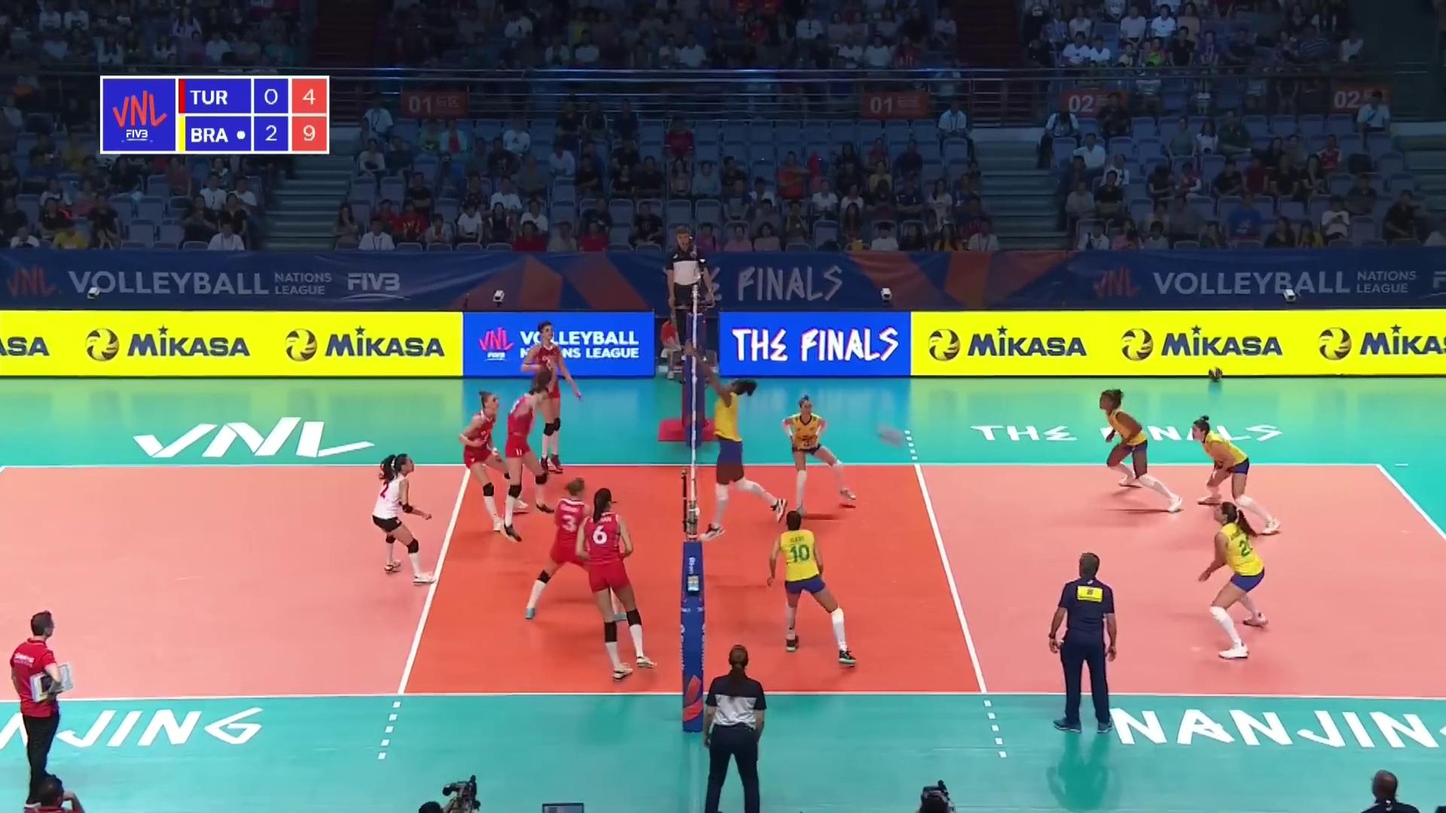player: (515, 476, 624, 628), (702, 374, 786, 535), (575, 488, 648, 673), (777, 513, 857, 659), (1199, 502, 1270, 661), (1189, 419, 1283, 538), (1098, 390, 1178, 513), (458, 387, 522, 539), (499, 381, 557, 536), (373, 449, 437, 580), (786, 399, 859, 504), (524, 324, 574, 472)
refree: (699, 643, 766, 811), (663, 226, 716, 363)
